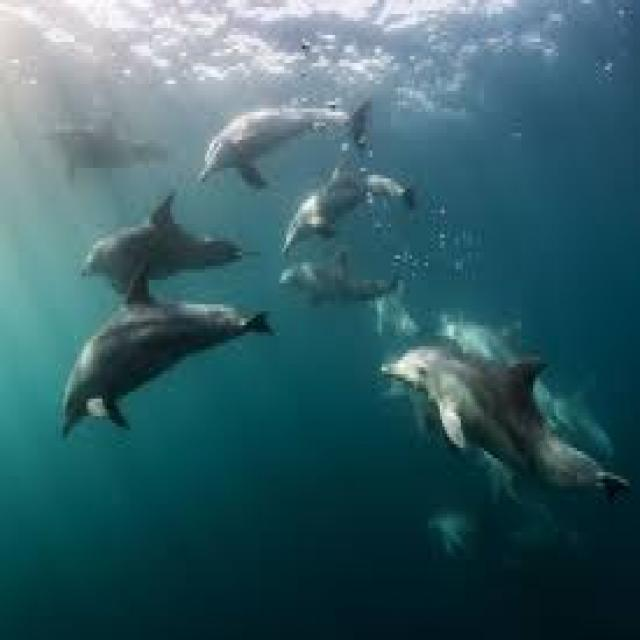dolphin: (379, 307, 631, 528), (28, 297, 284, 507), (191, 48, 368, 185)
